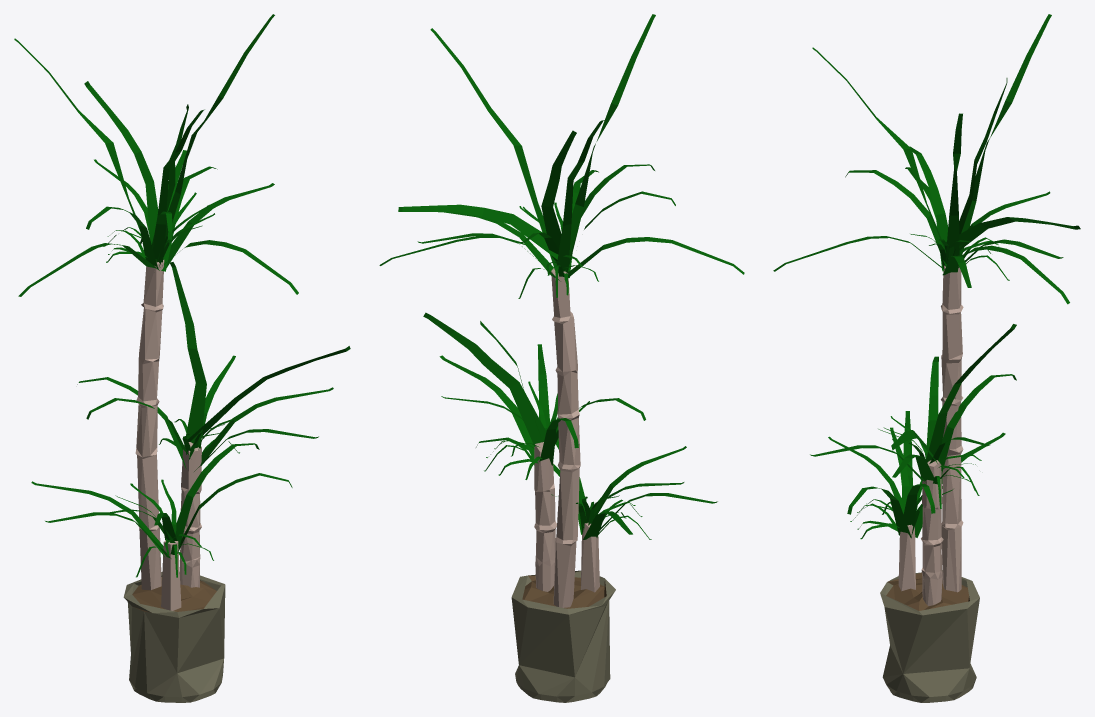
Rendered from plante_triple.fbx.
3 renders of one model, left to right at view 1: azimuth 30°, elevation 25°; view 2: azimuth 150°, elevation 25°; view 3: azimuth 270°, elevation 25°, orthographic.
Parts seen in each view (by area): view 1: pot complet 1; view 2: pot complet 1; view 3: pot complet 1.
Boxes of the visible parts, x1,y1,x2,y2 form: pot complet 1: (14, 14, 350, 702); pot complet 1: (379, 14, 744, 702); pot complet 1: (773, 14, 1080, 702).
Bounding box in the file's own units: 95.48 × 177 × 78.99.
